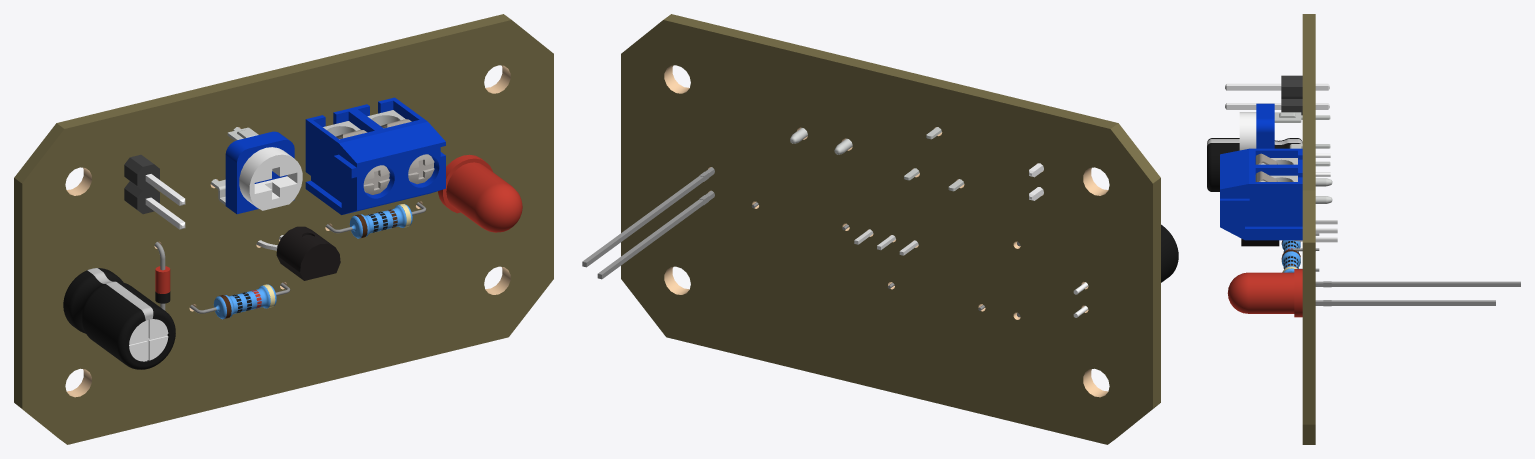
File: Simple Audio Peak Indicator v1.obj
The picture shows the model from 3 angles, left to right: view 1: azimuth 30°, elevation 25°; view 2: azimuth 150°, elevation 25°; view 3: azimuth 270°, elevation 25°; orthographic projection. The views are drawn at different scales.
Parts seen in each view (by area): view 1: Solid1, Solid1:6, Solid1:2, Solid1:5, Solid1:7, Solid1:10, Solid1:1, Solid2:3, Solid1:9, Solid1:8, Solid2:2, Solid3:1; view 2: Solid1, Solid1:4, Solid2:1, Solid1:2; view 3: Solid1:6, Solid1, Solid1:5, Solid1:1, Solid1:2, Solid1:4, Solid2:1, Solid2:3, Solid1:7, Solid5:1, Solid7.
Part boxes in pixels (x1,y1,x2,y2): Solid1: (14, 14, 553, 444); Solid1:6: (305, 97, 445, 214); Solid1:2: (63, 268, 175, 369); Solid1:5: (438, 154, 522, 232); Solid1:7: (239, 147, 302, 210); Solid1:10: (276, 226, 340, 280); Solid1:1: (124, 154, 185, 229); Solid2:3: (225, 131, 294, 214); Solid1:9: (330, 205, 426, 236); Solid1:8: (194, 285, 290, 317); Solid2:2: (363, 165, 389, 194); Solid3:1: (408, 154, 434, 184); Solid1: (621, 14, 1160, 444); Solid1:4: (582, 167, 714, 267); Solid2:1: (597, 190, 714, 279); Solid1:2: (1073, 224, 1178, 317); Solid1:6: (1220, 148, 1302, 240); Solid1: (1302, 14, 1315, 444); Solid1:5: (1227, 269, 1302, 317); Solid1:1: (1225, 75, 1329, 115); Solid1:2: (1207, 138, 1330, 191); Solid1:4: (1315, 281, 1520, 287); Solid2:1: (1315, 300, 1495, 306); Solid2:3: (1256, 103, 1274, 148); Solid1:7: (1239, 112, 1256, 150); Solid5:1: (1274, 112, 1330, 122); Solid7: (1261, 158, 1332, 186).
Size of what is drawn, in the model's own units: 59.67 by 33.96 by 37.76.
